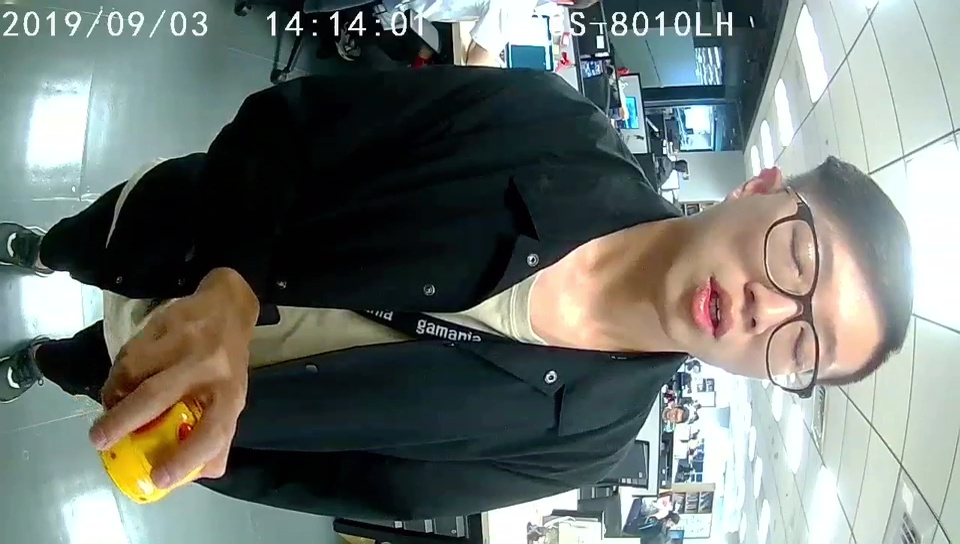car: (102, 399, 204, 505)
